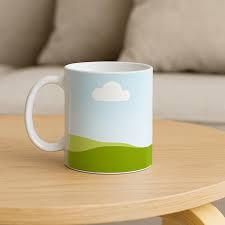mug: (25, 54, 161, 185)
